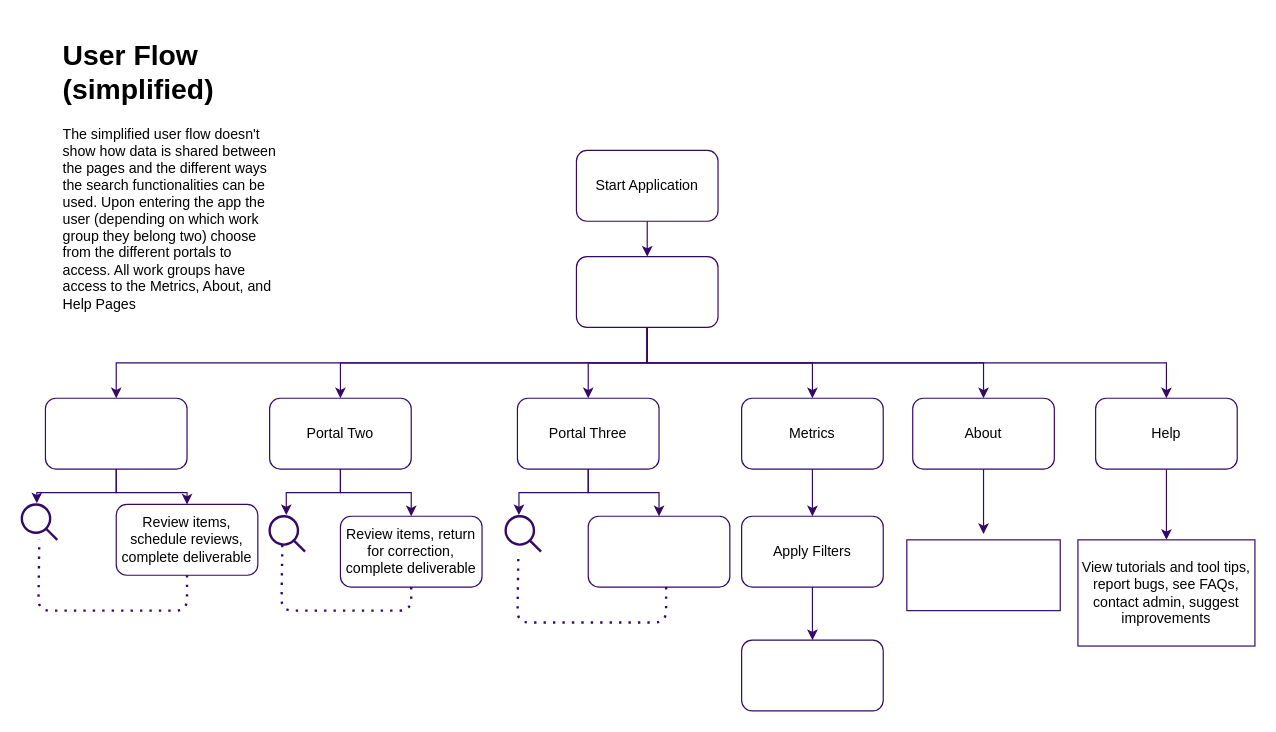
Some shapes in this 1276 by 732 pixel diagram are drawn without their labels. Here are the shapes that lost their labels. From the top down, the centre of each, then its label:
At point (646, 291): "Landing Page".
At point (115, 433): "Portal One".
At point (658, 551): "Assign items,send reminders, , review items".
At point (983, 575): "View general app info e.g version info features list admin info".
At point (811, 675): "View Metrics/ Save Filter Group".
